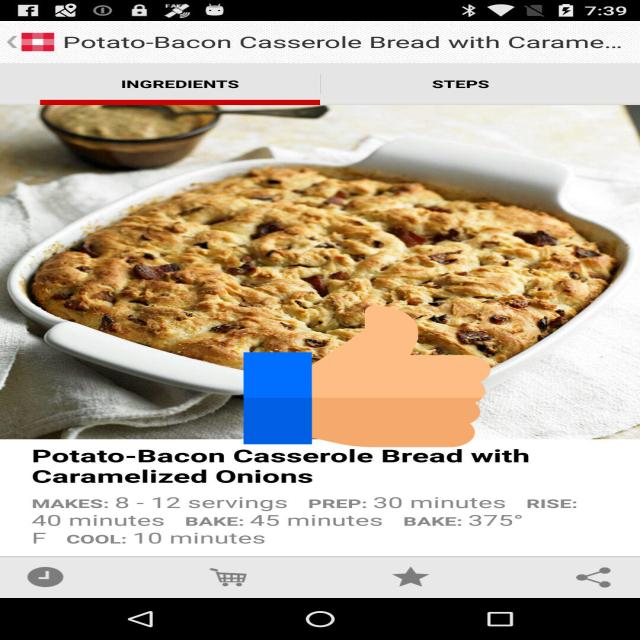privacy zuckering: (244, 302, 491, 451)
